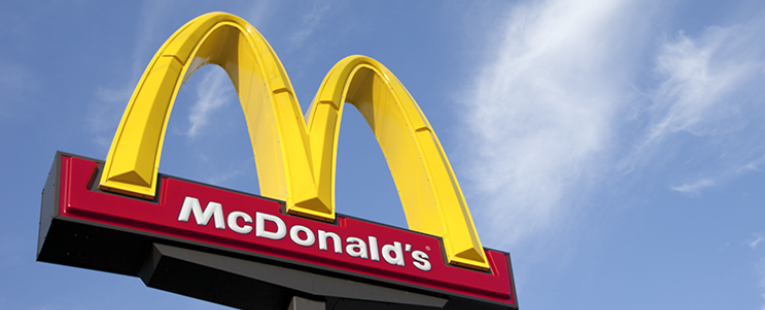mcdonalds: (99, 8, 499, 271)
